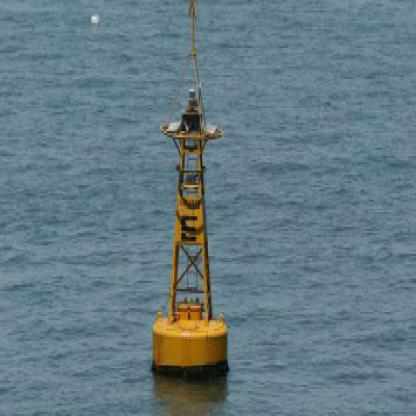buoy: (146, 0, 237, 391)
